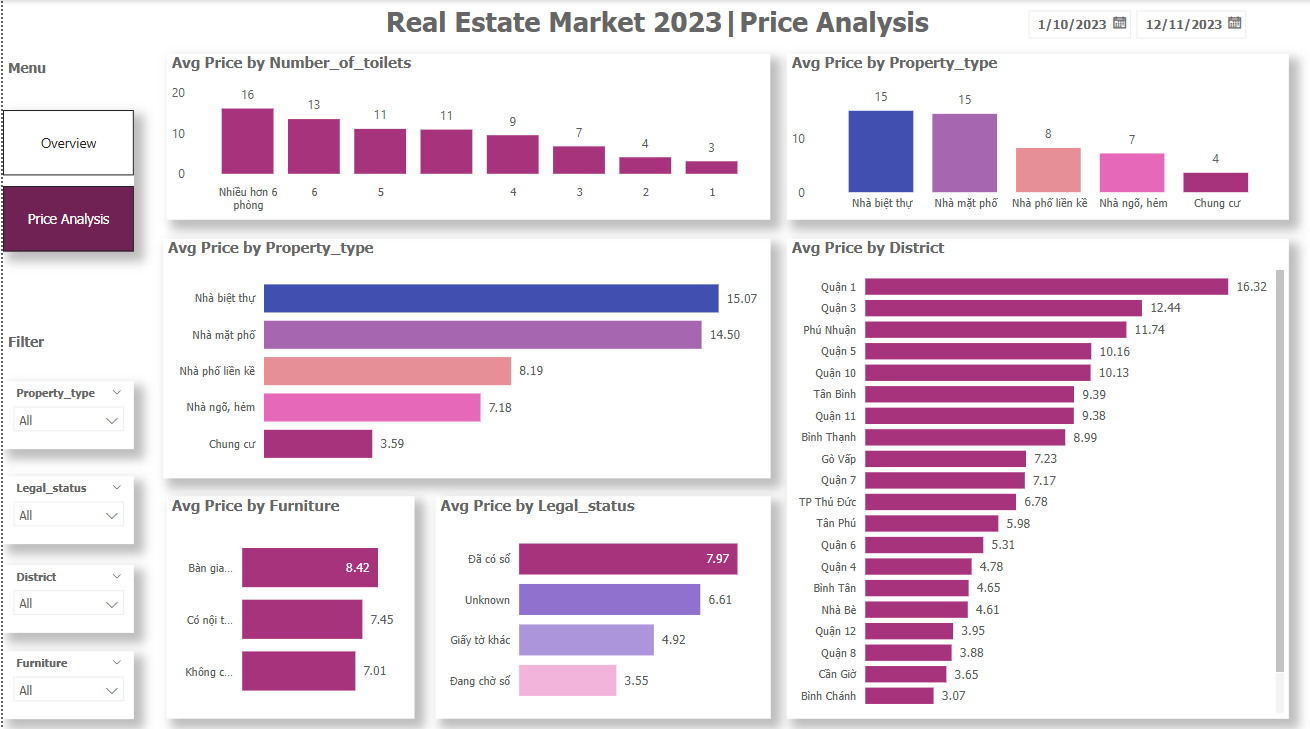

The page's visual inventory and layout, read from the dashboard file:
{"tool":"powerbi","page":{"name":"Price Analysis","canvas":[1280,720],"ordinal":1},"visuals":[{"type":"textbox","box":[357.1,0,566.2,52.6],"z":0},{"type":"clusteredBarChart","fields":{"Category":["dataset_non_outliers_Price_Area.Property_type"],"Y":["dataset_non_outliers_Price_Area.Avg Price"]},"box":[156.5,233.6,594.3,234.8],"z":1000},{"type":"barChart","fields":{"Category":["dataset_non_outliers_Price_Area.Legal_status"],"Y":["dataset_non_outliers_Price_Area.Avg Price"]},"box":[423.1,485.5,327.7,217.7],"z":2000},{"type":"textbox","box":[0,52.6,116.2,52.6],"z":3000},{"type":"textbox","box":[0,320.4,116.2,52.6],"z":4000},{"type":"slicer","fields":{"Values":["dataset_non_outliers_Price_Area.Posting_date"]},"box":[990.5,0,233.6,44],"z":5000},{"type":"slicer","fields":{"Values":["dataset_non_outliers_Price_Area.Property_type"]},"box":[0,373,128.4,66],"z":6000},{"type":"slicer","fields":{"Values":["dataset_non_outliers_Price_Area.Legal_status"]},"box":[0,465.9,128.4,66],"z":7000},{"type":"slicer","fields":{"Values":["dataset_non_outliers_Price_Area.District"]},"box":[0,552.7,128.4,66],"z":8000},{"type":"slicer","fields":{"Values":["dataset_non_outliers_Price_Area.Furniture"]},"box":[0,637.1,128.4,66],"z":9000},{"type":"pageNavigator","box":[0,107.6,128.4,138.2],"z":10000},{"type":"clusteredBarChart","fields":{"Category":["dataset_non_outliers_Price_Area.District"],"Y":["dataset_non_outliers_Price_Area.Avg Price"]},"box":[766.7,233.6,491.6,469.6],"z":11000},{"type":"barChart","fields":{"Y":["dataset_non_outliers_Price_Area.Avg Price"],"Category":["dataset_non_outliers_Price_Area.Furniture"]},"box":[160.2,485.5,242.1,217.7],"z":12000},{"type":"columnChart","fields":{"Category":["dataset_non_outliers_Price_Area.Number_of_toilets"],"Y":["dataset_non_outliers_Price_Area.Avg Price"]},"box":[160.2,52.6,590.6,162.6],"z":13000},{"type":"columnChart","fields":{"Category":["dataset_non_outliers_Price_Area.Property_type"],"Y":["dataset_non_outliers_Price_Area.Avg Price"]},"box":[766.7,52.6,491.6,162.6],"z":13001}]}

Visuals, with their boxes in screenshot pixels (x1, y1, x2, y2), scaled from the page's 1280x720 canvas onto the 1310x729 screenshot:
textbox: 365:0:945:53
clusteredBarChart - dataset_non_outliers_Price_Area.Property_type x dataset_non_outliers_Price_Area.Avg Price: 160:237:768:474
barChart - dataset_non_outliers_Price_Area.Legal_status x dataset_non_outliers_Price_Area.Avg Price: 433:492:768:712
textbox: 0:53:119:107
textbox: 0:324:119:378
slicer - dataset_non_outliers_Price_Area.Posting_date: 1014:0:1253:45
slicer - dataset_non_outliers_Price_Area.Property_type: 0:378:131:444
slicer - dataset_non_outliers_Price_Area.Legal_status: 0:472:131:539
slicer - dataset_non_outliers_Price_Area.District: 0:560:131:626
slicer - dataset_non_outliers_Price_Area.Furniture: 0:645:131:712
pageNavigator: 0:109:131:249
clusteredBarChart - dataset_non_outliers_Price_Area.District x dataset_non_outliers_Price_Area.Avg Price: 785:237:1288:712
barChart - dataset_non_outliers_Price_Area.Avg Price x dataset_non_outliers_Price_Area.Furniture: 164:492:412:712
columnChart - dataset_non_outliers_Price_Area.Number_of_toilets x dataset_non_outliers_Price_Area.Avg Price: 164:53:768:218
columnChart - dataset_non_outliers_Price_Area.Property_type x dataset_non_outliers_Price_Area.Avg Price: 785:53:1288:218
